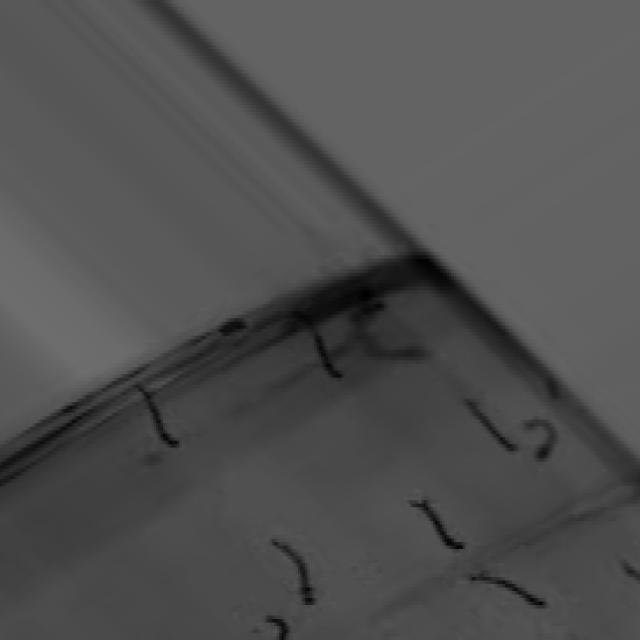larvas: (361, 298, 422, 366), (470, 568, 548, 613), (276, 534, 319, 604), (466, 400, 516, 458), (304, 311, 344, 383), (142, 385, 176, 451), (417, 503, 461, 550), (528, 414, 554, 460), (268, 611, 287, 640)
